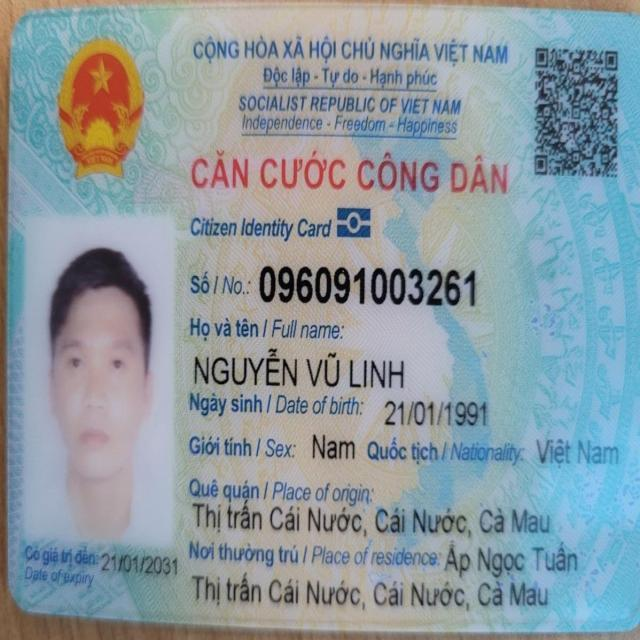current_place: (183, 567, 552, 616), (443, 541, 582, 575)
dob: (380, 392, 493, 437)
expire_date: (96, 544, 183, 588)
gender: (306, 428, 359, 462)
id: (255, 254, 482, 322)
name: (189, 342, 407, 397)
nationality: (531, 427, 622, 480)
origin_place: (190, 500, 559, 540)
qr: (530, 40, 624, 182)
